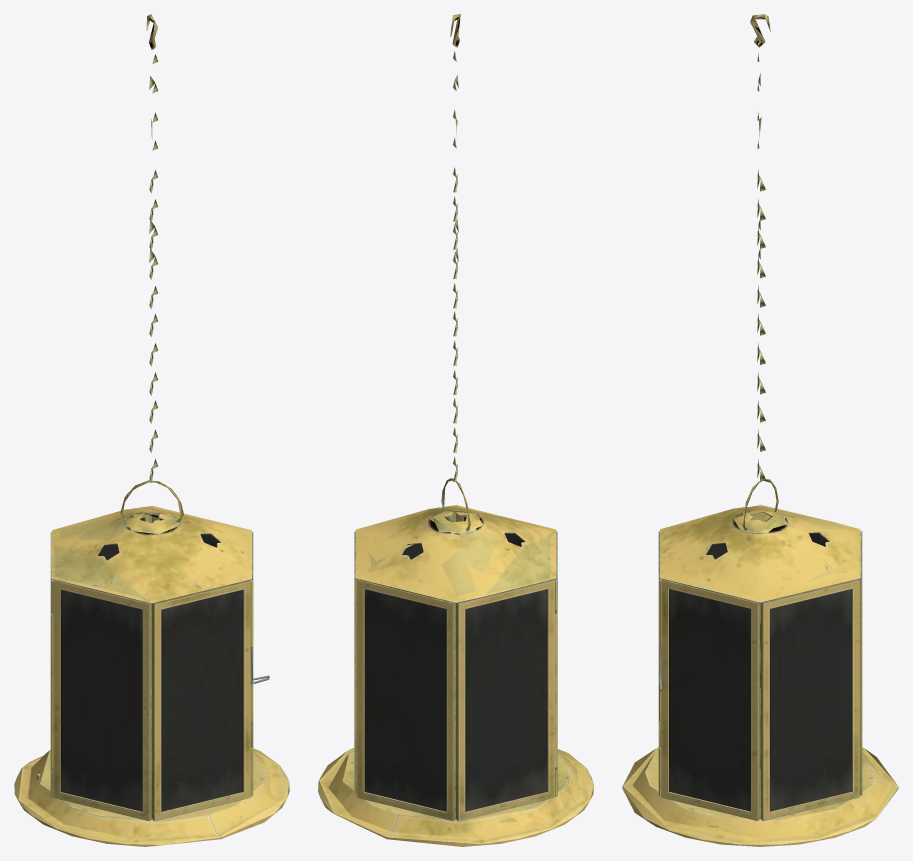
File: brass_diya_lantern.glb
3 views of the same model, side by side, from view 1: azimuth 30°, elevation 25°; view 2: azimuth 150°, elevation 25°; view 3: azimuth 270°, elevation 25° (orthographic).
Parts seen in each view (by area): view 1: brass_diya_lantern, brass_diya_lantern_chain; view 2: brass_diya_lantern, brass_diya_lantern_chain; view 3: brass_diya_lantern, brass_diya_lantern_chain.
Part boxes in pixels (left/top/right/bottom): brass_diya_lantern: left=14, top=505, right=289, bottom=846; brass_diya_lantern_chain: left=146, top=14, right=158, bottom=481; brass_diya_lantern: left=318, top=505, right=593, bottom=846; brass_diya_lantern_chain: left=450, top=14, right=460, bottom=481; brass_diya_lantern: left=622, top=504, right=898, bottom=846; brass_diya_lantern_chain: left=750, top=14, right=770, bottom=480.
Size of the model in its own units: 0.123 by 0.3806 by 0.123.
Materials: 3 (3 with a texture image).
